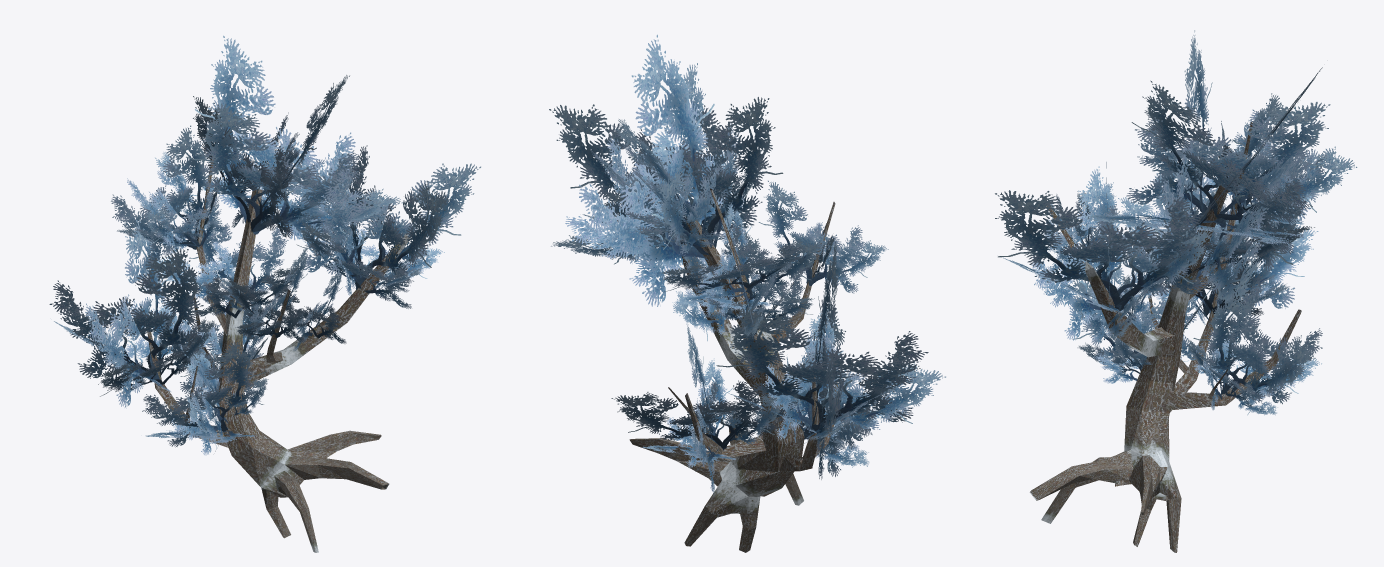
File: Tree_songshu_03.FBX
3 renders of one model, left to right at view 1: azimuth 30°, elevation 25°; view 2: azimuth 150°, elevation 25°; view 3: azimuth 270°, elevation 25°, orthographic. The views are drawn at different scales.
Visible parts, largest first — view 1: Tree_songshu_03; view 2: Tree_songshu_03; view 3: Tree_songshu_03.
Part boxes in pixels (x1=…): Tree_songshu_03: x1=49, y1=35, x2=480, y2=552; Tree_songshu_03: x1=549, y1=34, x2=945, y2=552; Tree_songshu_03: x1=995, y1=30, x2=1357, y2=552.
Size of the model in its own units: 2934 by 3229 by 2139.
